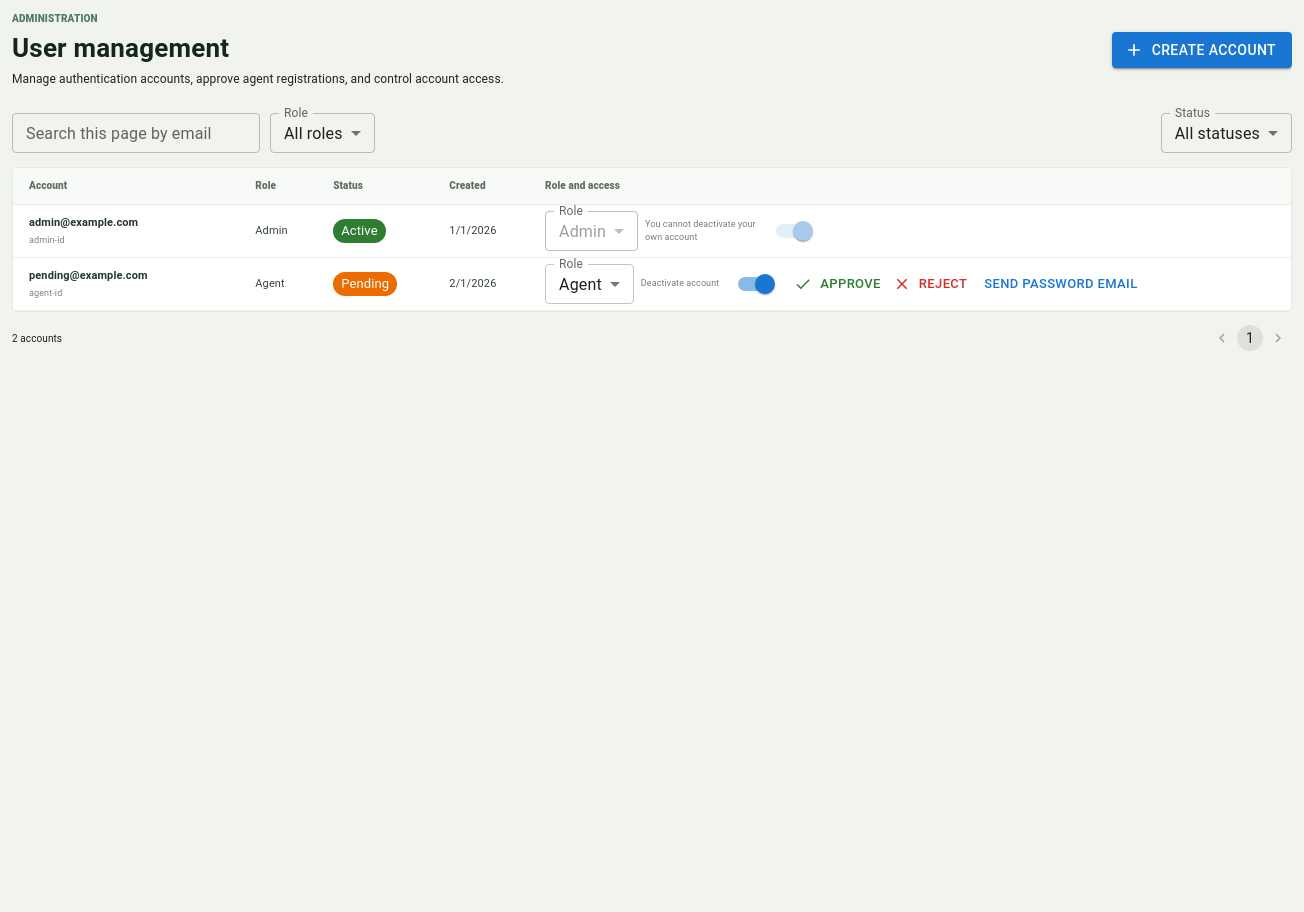
Test: admin user management › lists authentication accounts and approves a pending agent
Check: the text "admin@example.com" is shown, box 29,216 -> 138,229
Check: the text "pending@example.com" is shown, box 29,269 -> 148,282
What coordinates should you click on to do the following:
click the button "Approve"
I would click on:
 (838, 284)
Its box is 791,269 -> 886,299.
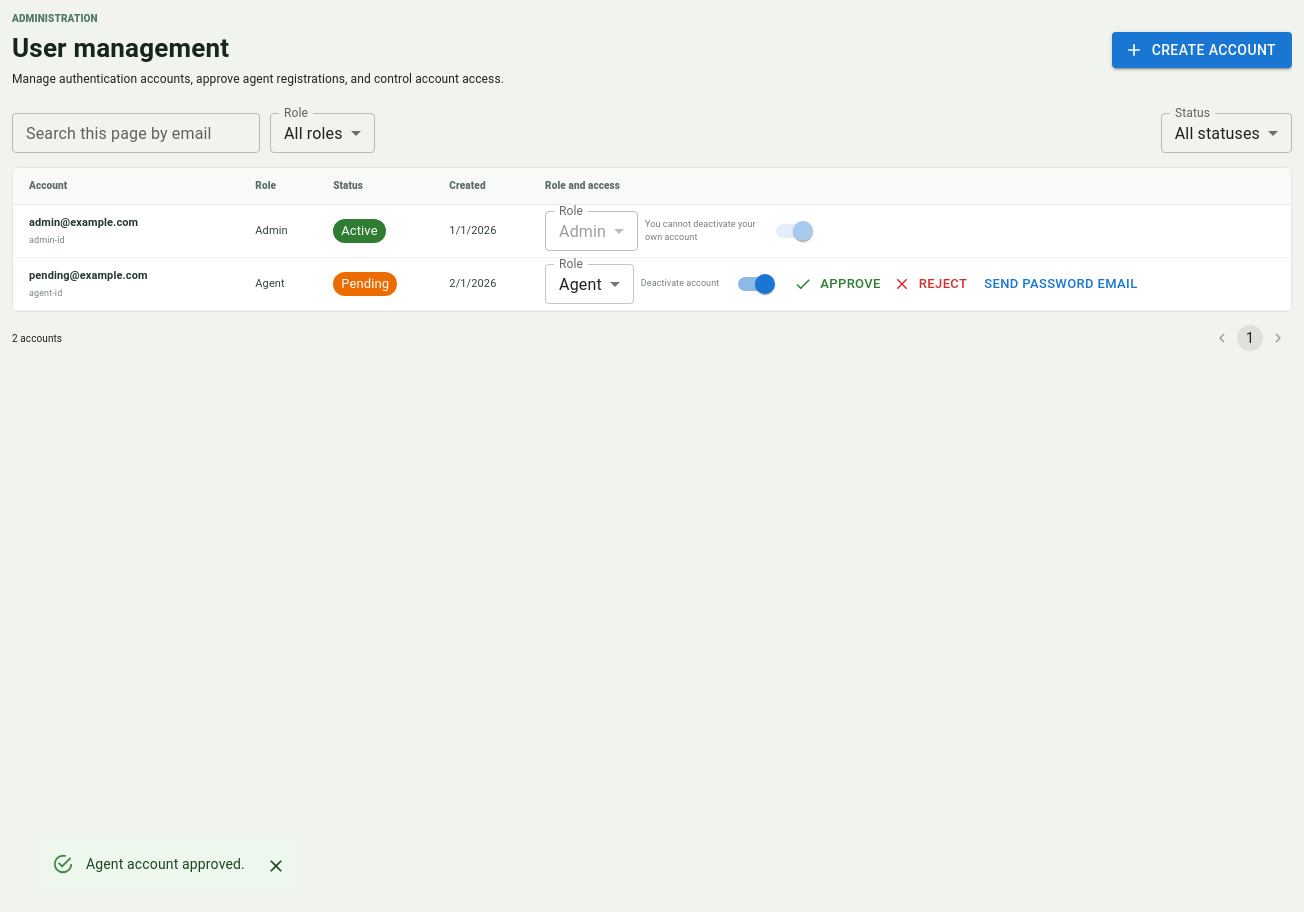
Check: the text "Agent account approved." is shown, box 86,856 -> 245,872
